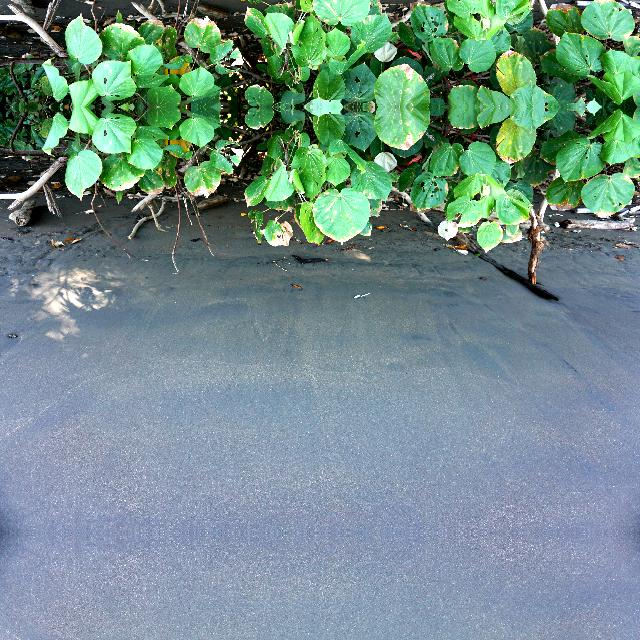Plastic: (354, 290, 371, 298)
